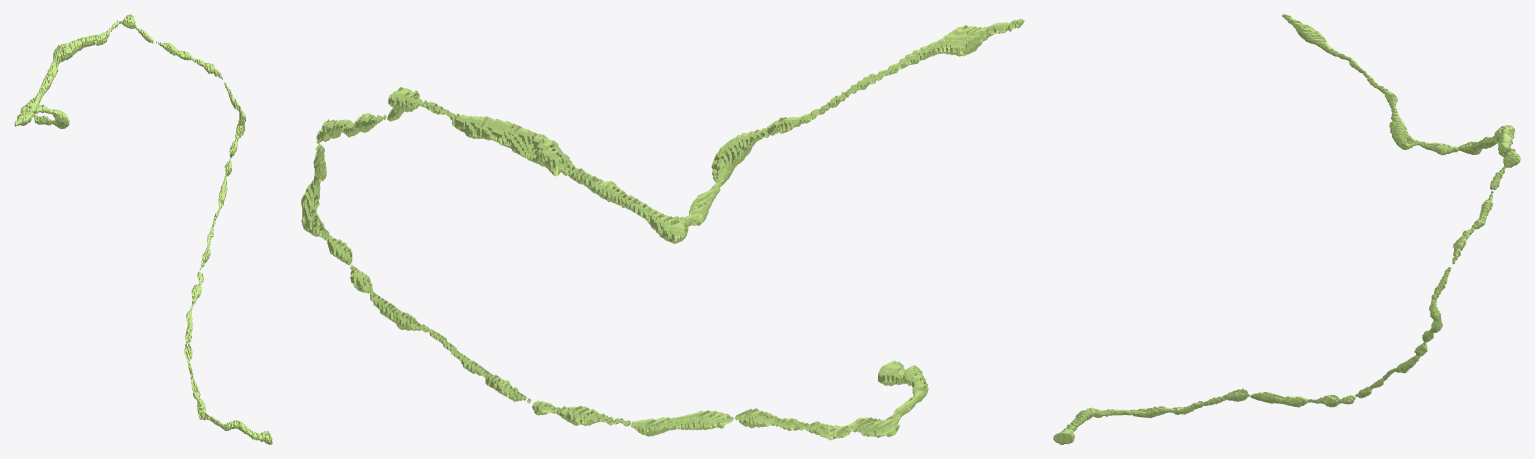
Rendered from SVV_SIADR.gltf.
3 views of the same model, side by side, from view 1: azimuth 30°, elevation 25°; view 2: azimuth 150°, elevation 25°; view 3: azimuth 270°, elevation 25° (orthographic). The views are drawn at different scales.
Parts seen in each view (by area): view 1: SIADR; view 2: SIADR; view 3: SIADR.
Part boxes in pixels (x1,y1,x2,y2): SIADR: (14, 14, 272, 444); SIADR: (301, 18, 1024, 440); SIADR: (1053, 14, 1520, 444).
Size of the model in its own units: 152351 by 143118 by 178310.
